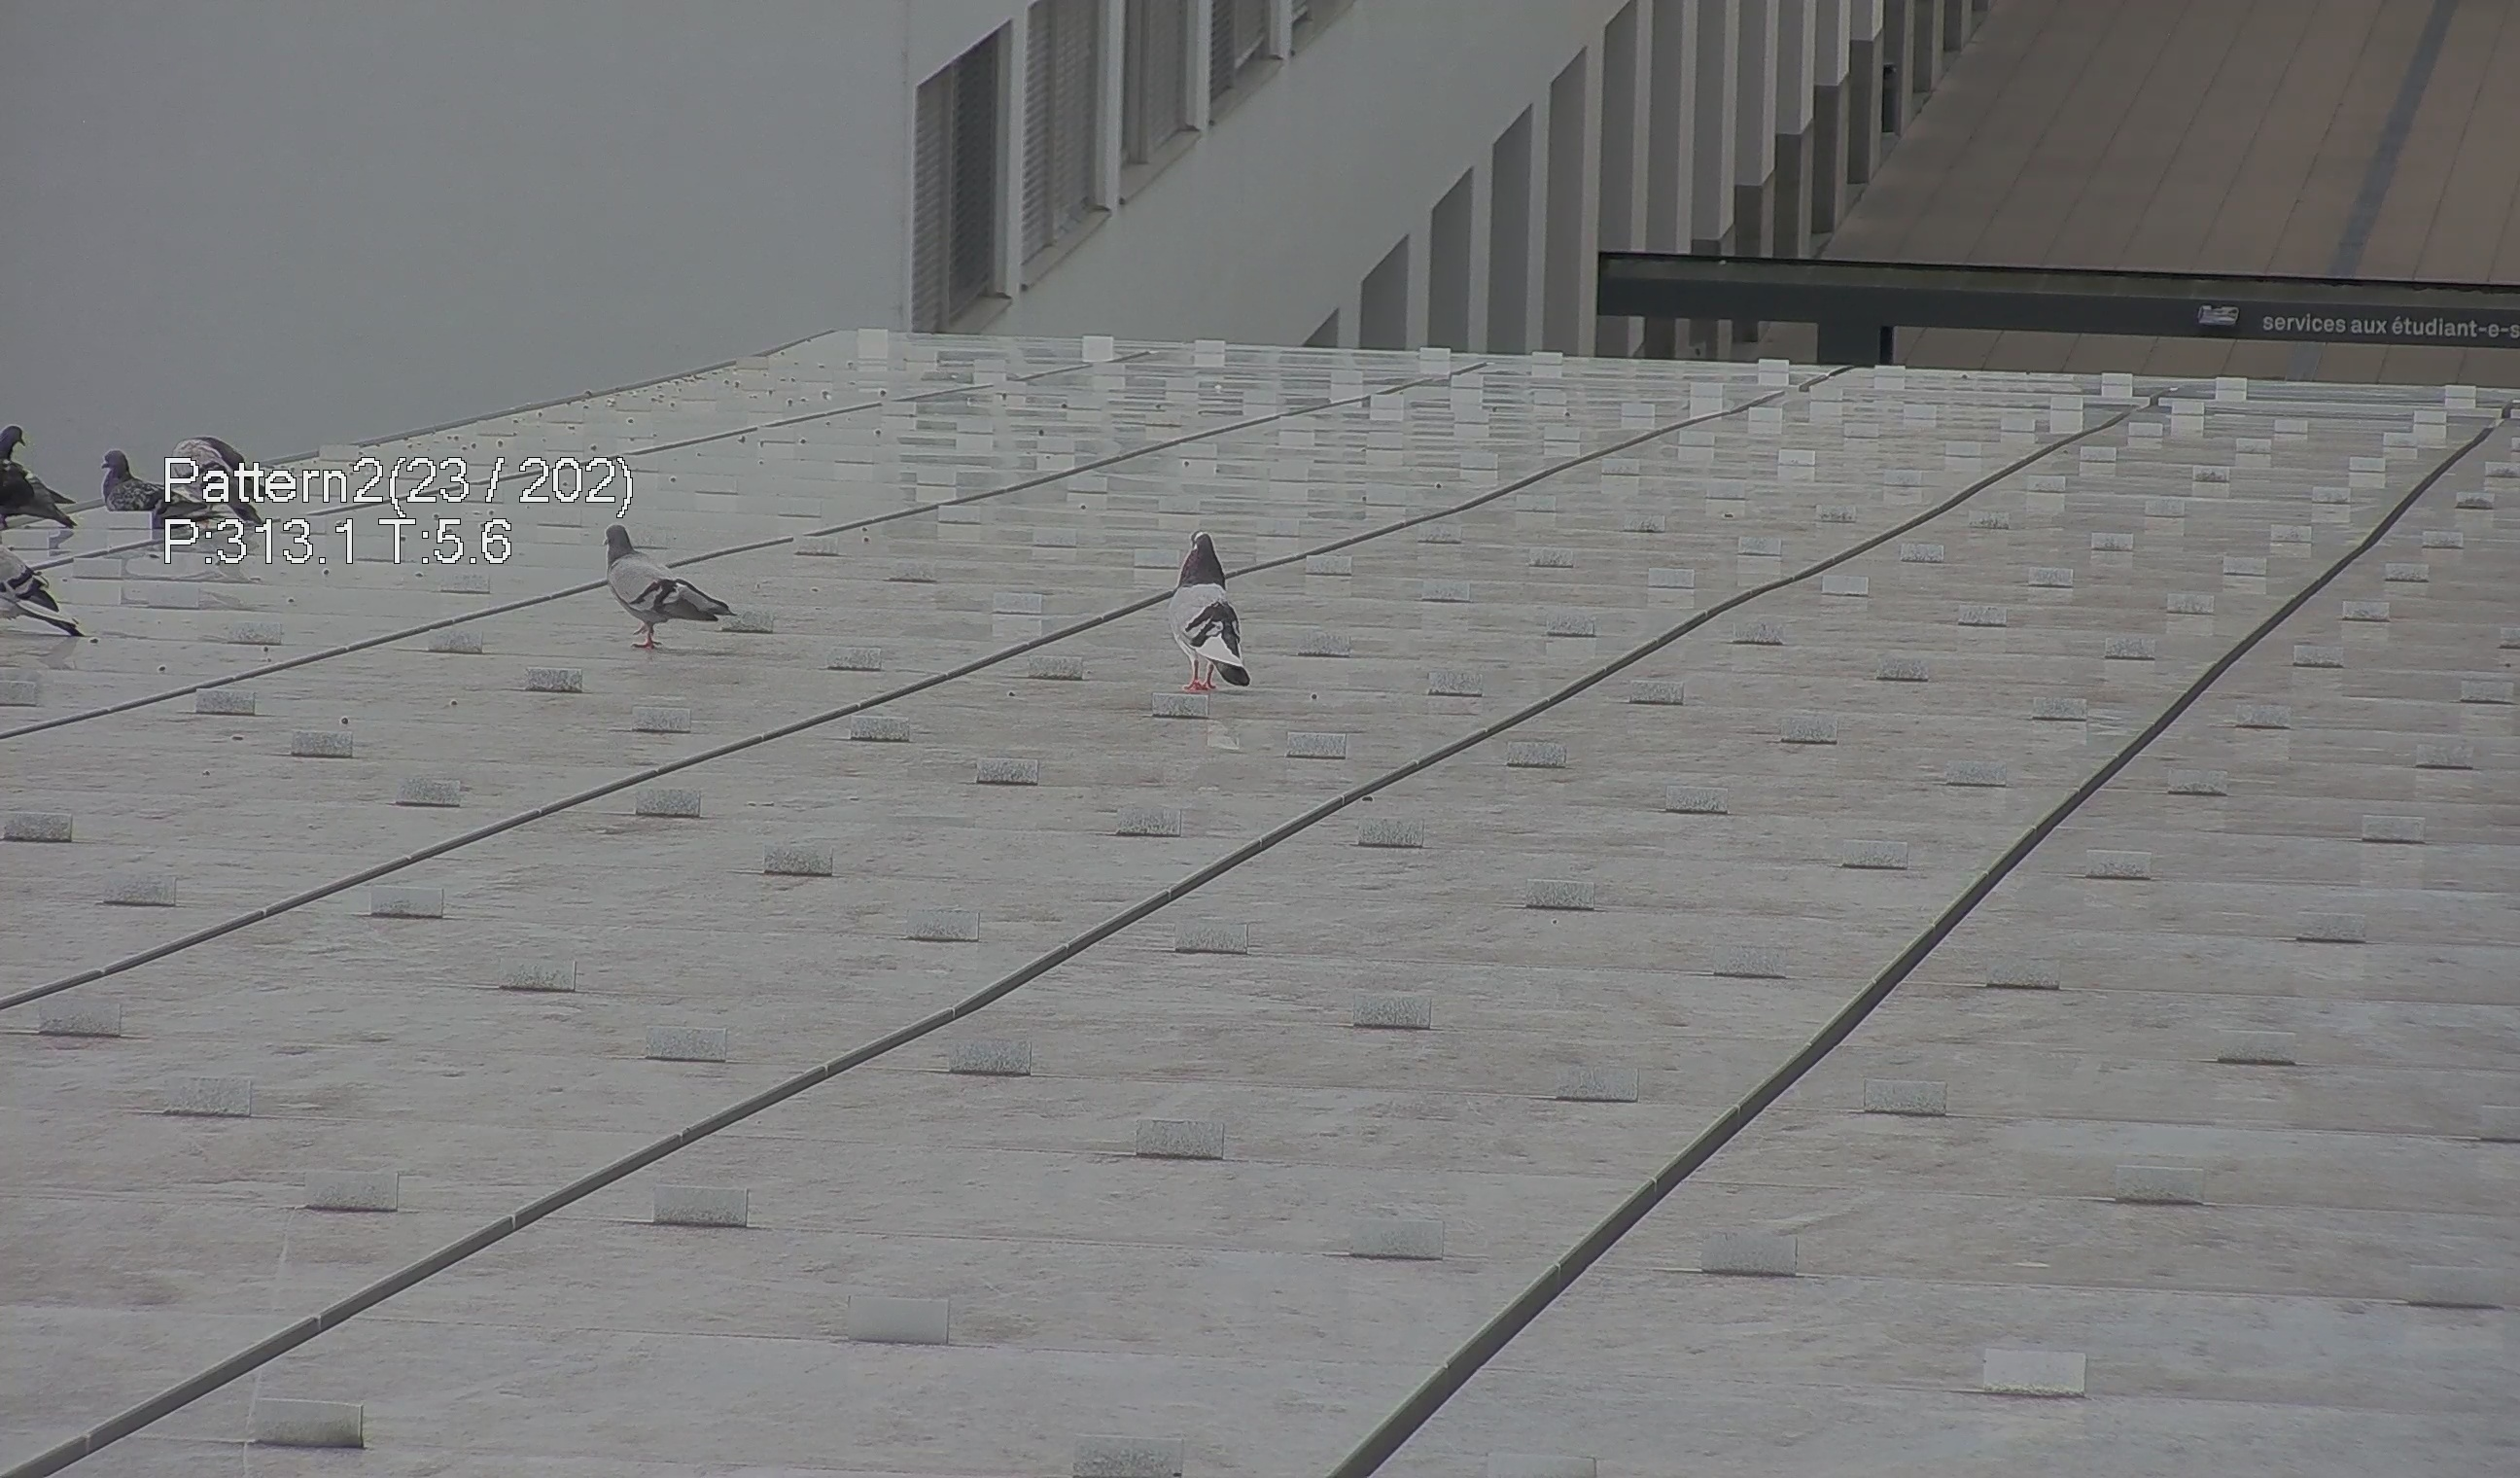Pigeon: (570, 496, 739, 648), (1168, 524, 1257, 697), (2, 542, 90, 651), (97, 449, 208, 530), (2, 450, 74, 528), (2, 413, 39, 461)
